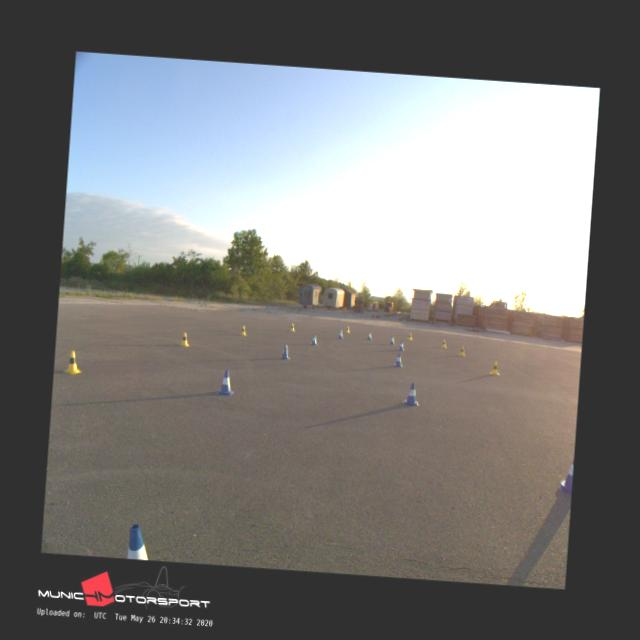blue_cone: (215, 368, 235, 394), (559, 455, 573, 492), (402, 380, 421, 406), (279, 344, 290, 358), (393, 352, 402, 367), (310, 333, 318, 344), (398, 340, 404, 350), (389, 334, 395, 344), (337, 329, 343, 338), (367, 332, 372, 339)
yellow_cone: (62, 350, 82, 374), (178, 331, 190, 345), (488, 360, 499, 374), (239, 324, 246, 334), (458, 346, 464, 356), (289, 322, 295, 331), (441, 338, 446, 348), (344, 325, 350, 333), (407, 332, 412, 340)
